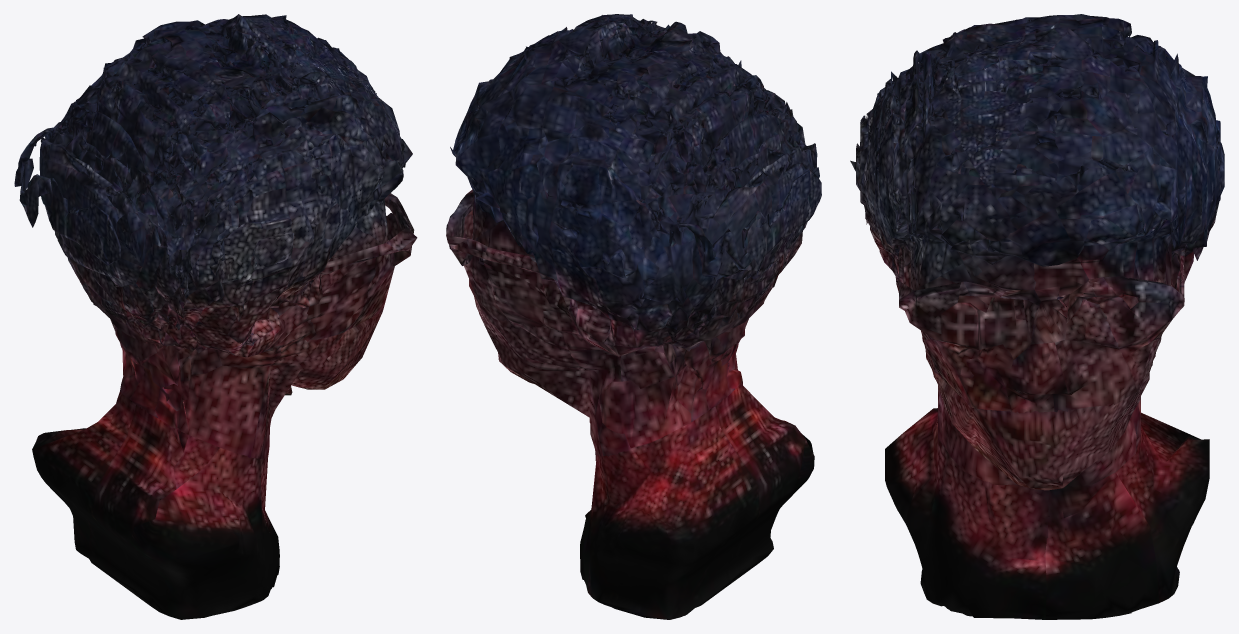
The model's file is stylized-head.glb.
The picture shows the model from 3 angles, left to right: view 1: azimuth 30°, elevation 25°; view 2: azimuth 150°, elevation 25°; view 3: azimuth 270°, elevation 25°; orthographic projection. The views are drawn at different scales.
Parts seen in each view (by area): view 1: tripo_node_b3e07765-6f3f-495a-95db-851fe1398afa; view 2: tripo_node_b3e07765-6f3f-495a-95db-851fe1398afa; view 3: tripo_node_b3e07765-6f3f-495a-95db-851fe1398afa.
Part boxes in pixels (x1,y1,x2,y2): tripo_node_b3e07765-6f3f-495a-95db-851fe1398afa: [14, 14, 417, 619]; tripo_node_b3e07765-6f3f-495a-95db-851fe1398afa: [446, 14, 821, 619]; tripo_node_b3e07765-6f3f-495a-95db-851fe1398afa: [850, 14, 1224, 619].
Bounding box in the file's own units: 0.6172 × 0.9992 × 0.568.
1 material, 1 textured.
